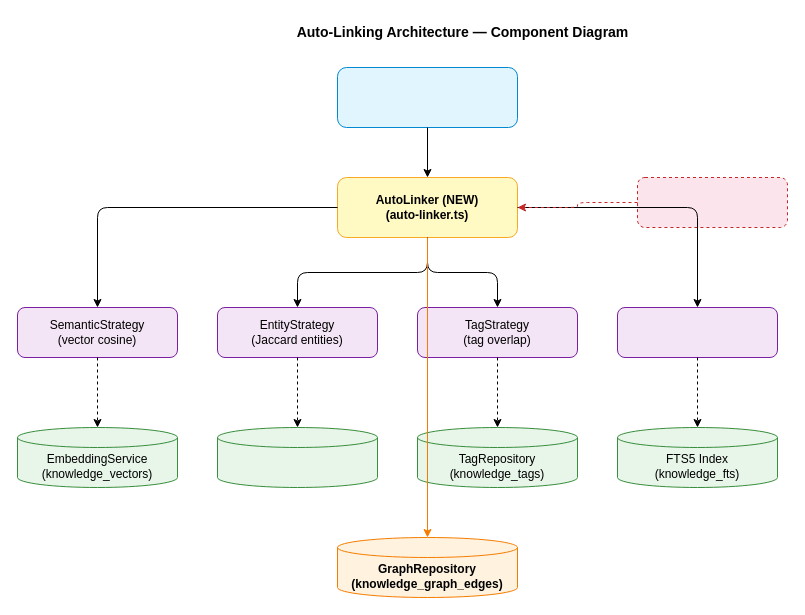
Some shapes in this 805 by 615 pixel diagram are drawn without their labels. The shapes that lost their labels are listed below. From the top down, each one's box as (x1, y1, x2, y2) in pixels, then its label:
(336, 66, 518, 128): IngestPipeline (ingest-pipeline.ts)
(636, 176, 788, 228): AutoLinkConfig (runtime config)
(616, 306, 778, 358): FTSStrategy (full-text fallback)
(216, 426, 378, 488): EntityRepository (entity_index)
